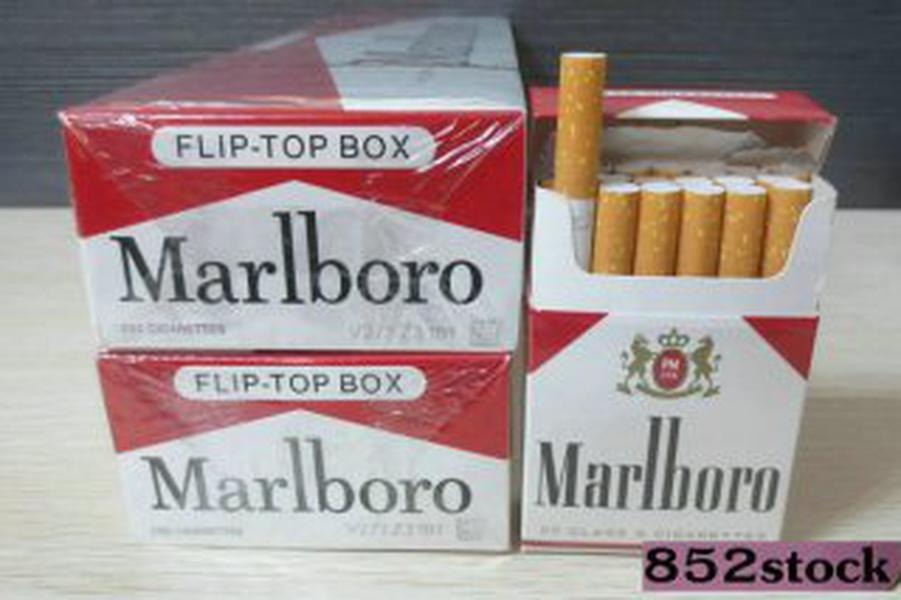marlboro_red: (531, 234, 784, 549)
